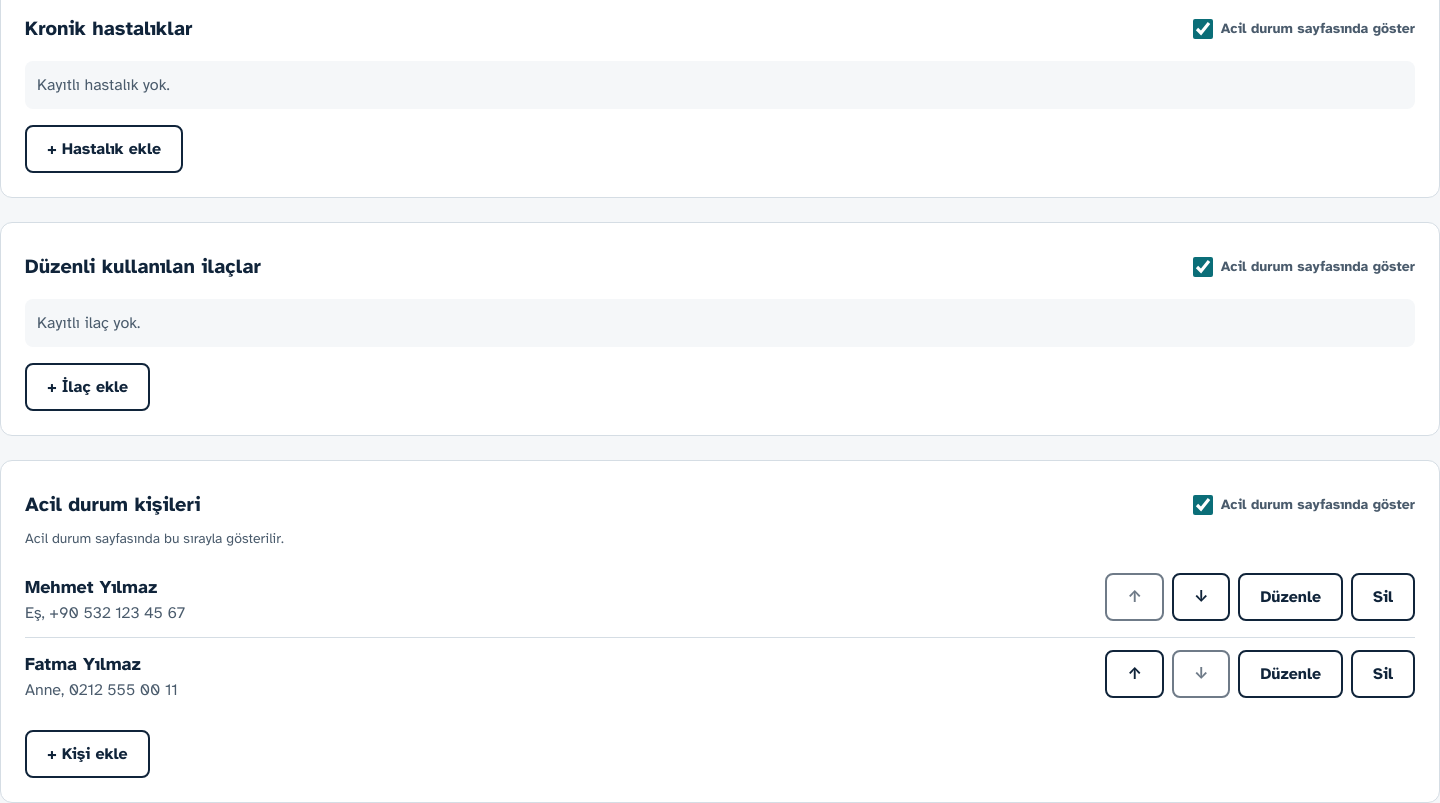
Scenario: Sağlık profili sayfası › sunucu doğrulama hatasını alanın altında gösterir
(page scrolled)
Click the button "+ Kişi ekle".
click(87, 754)  # box [25, 730, 150, 778]
(page scrolled)
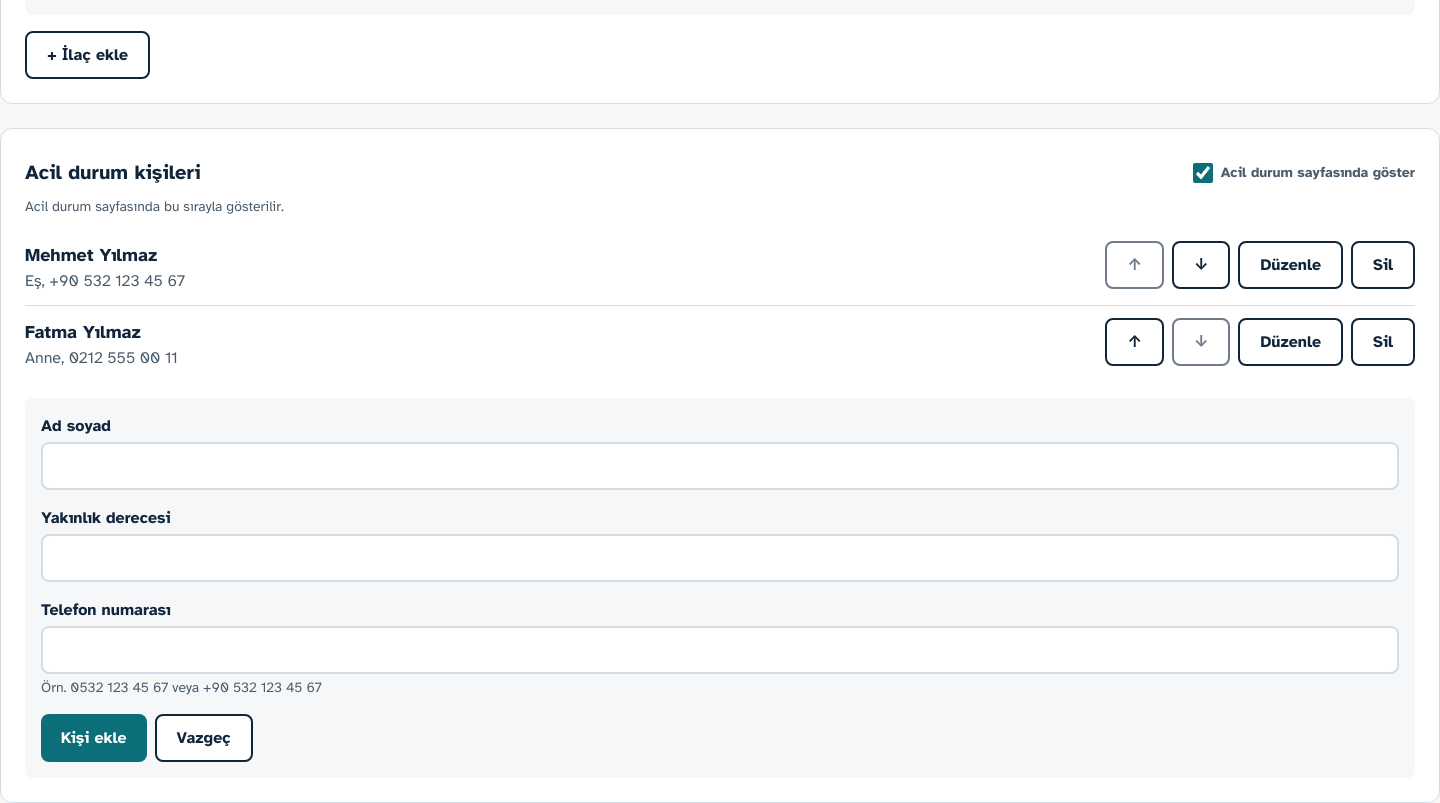
Type "Ali Veli" into the field labelled "Ad soyad".
click(720, 466); type("Ali Veli")  # box [41, 442, 1399, 490]
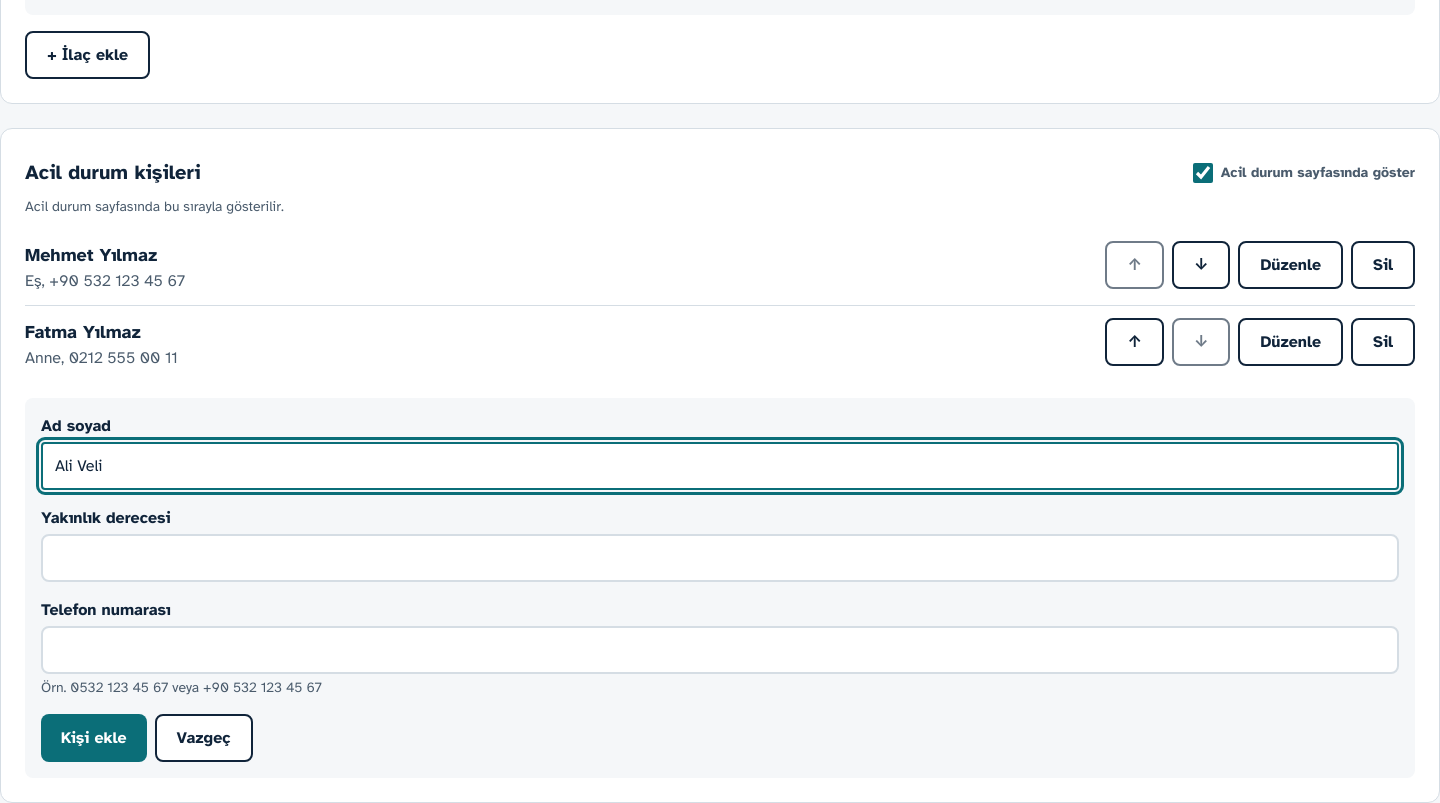
Type "Kardeş" into the field labelled "Yakınlık derecesi".
click(720, 558); type("Kardeş")  # box [41, 534, 1399, 582]
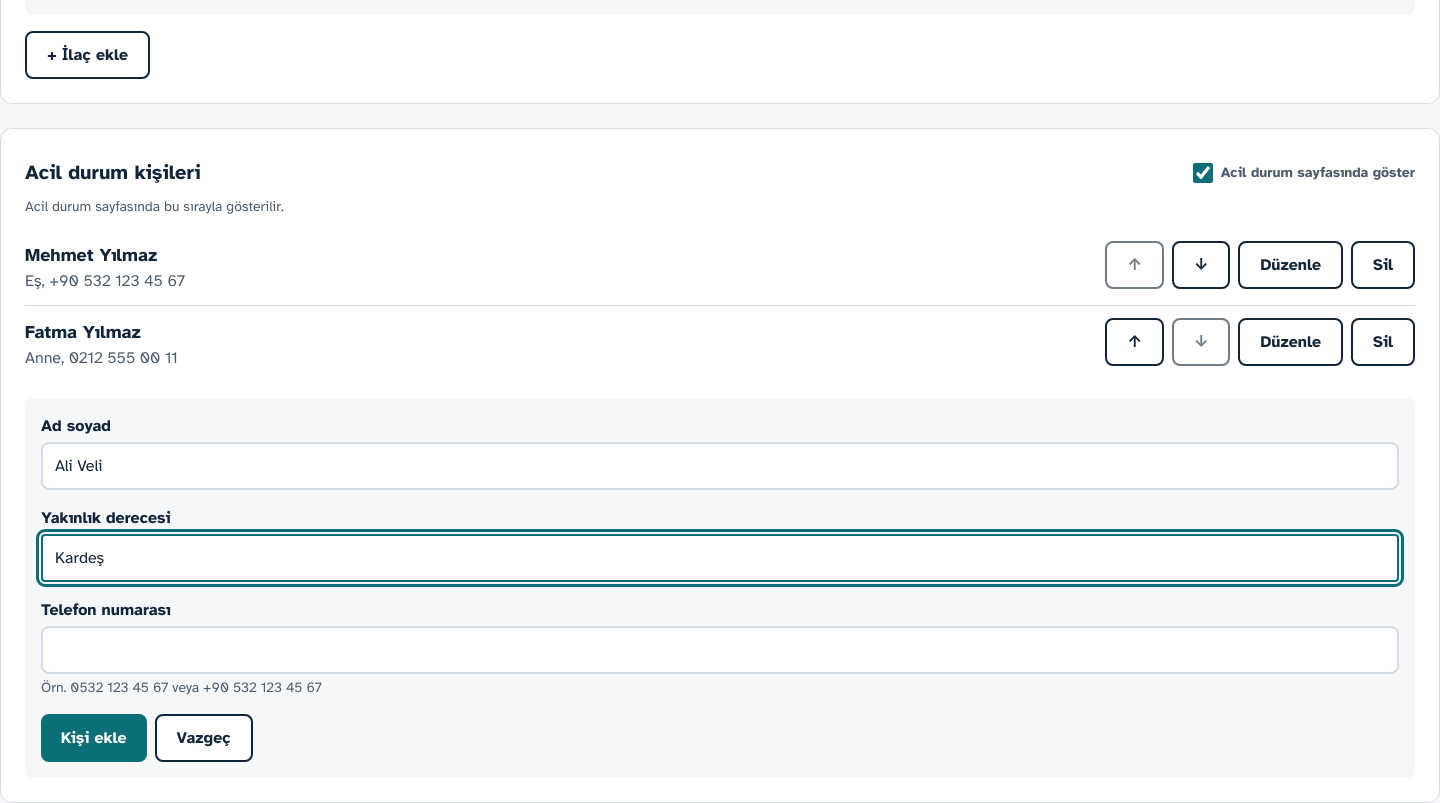
Type "5321234567" into the field labelled "Telefon numarası".
click(720, 650); type("5321234567")  # box [41, 626, 1399, 674]
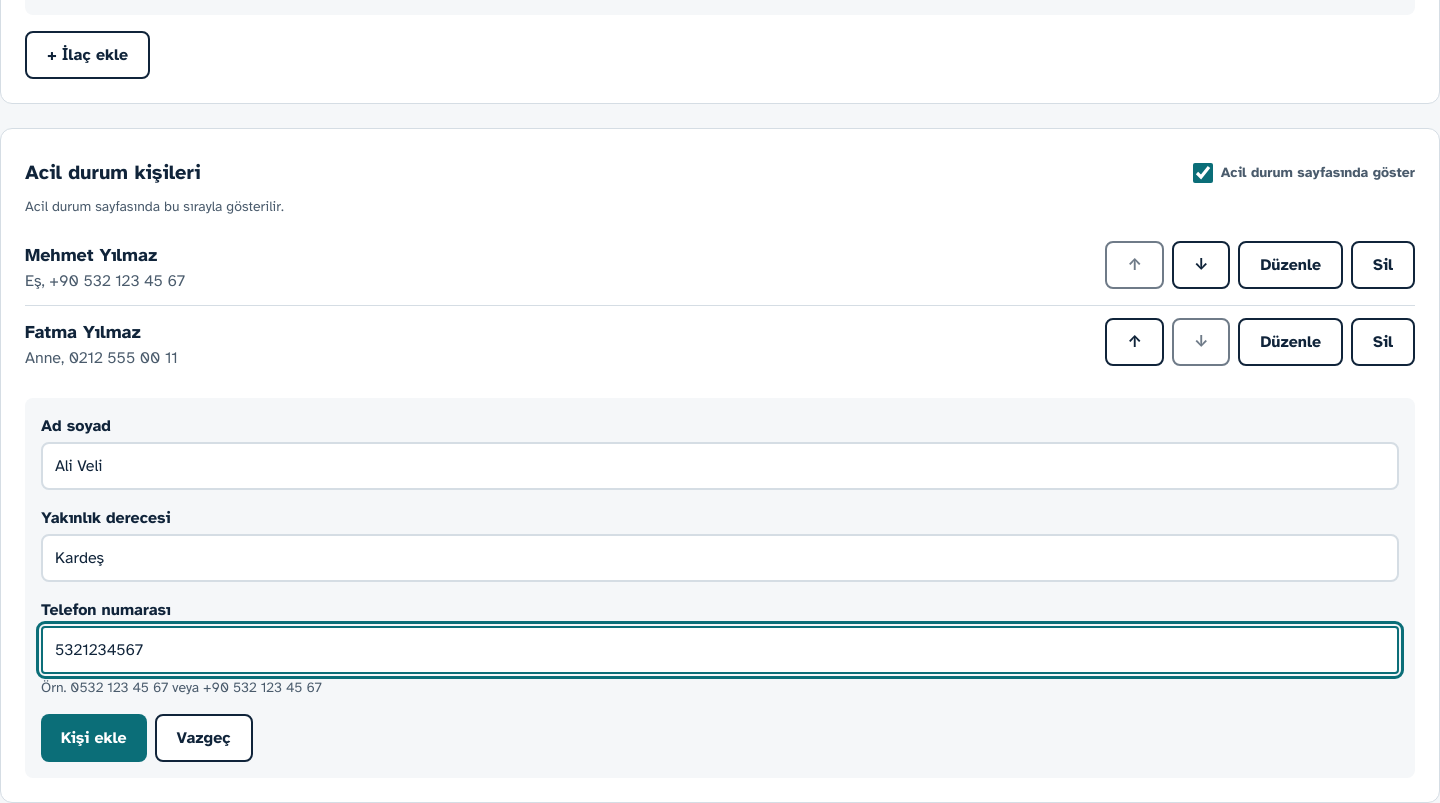
Click the button "Kişi ekle".
click(94, 738)  # box [41, 714, 147, 762]
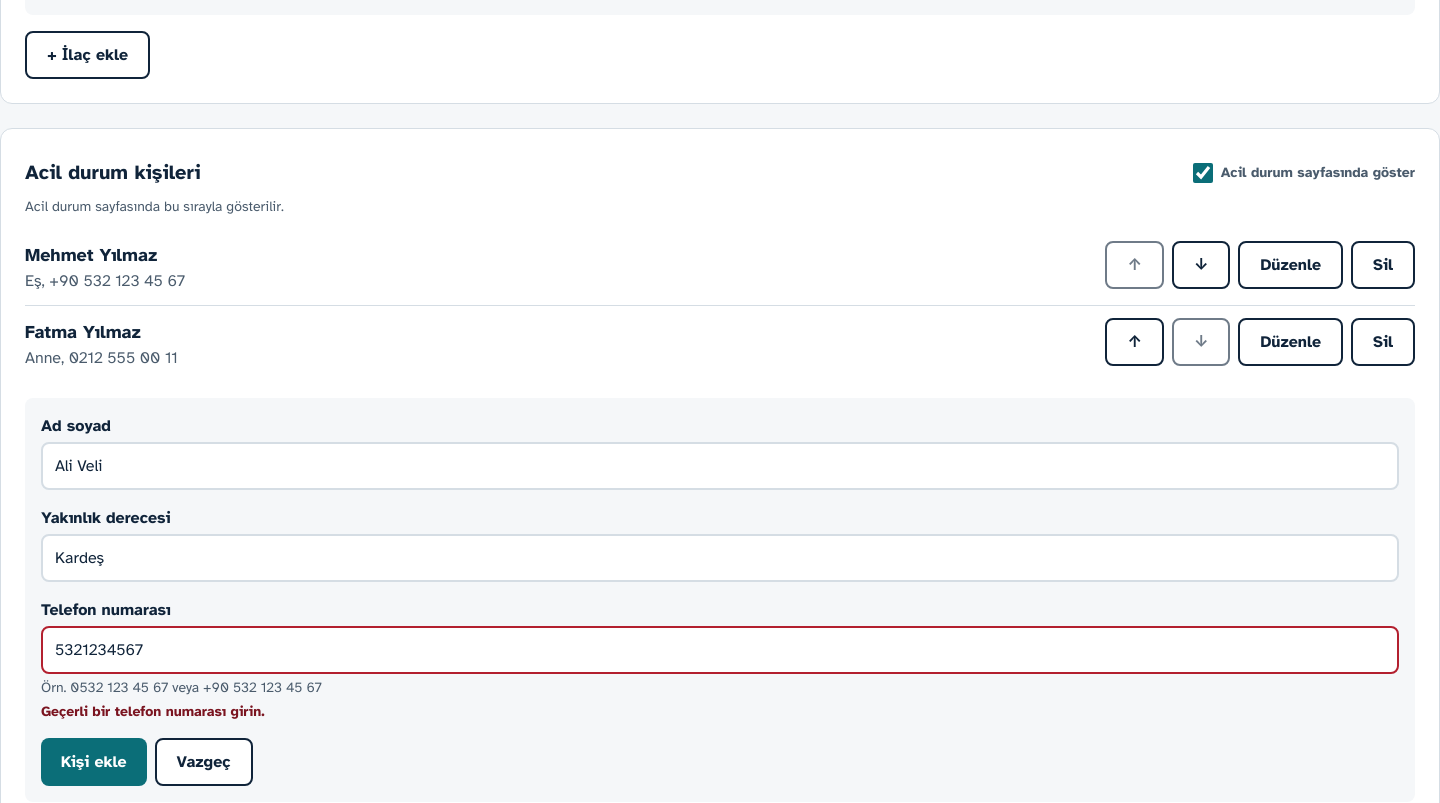
Now the text "Geçerli bir telefon numarası girin." is shown, box [41, 703, 265, 720]
